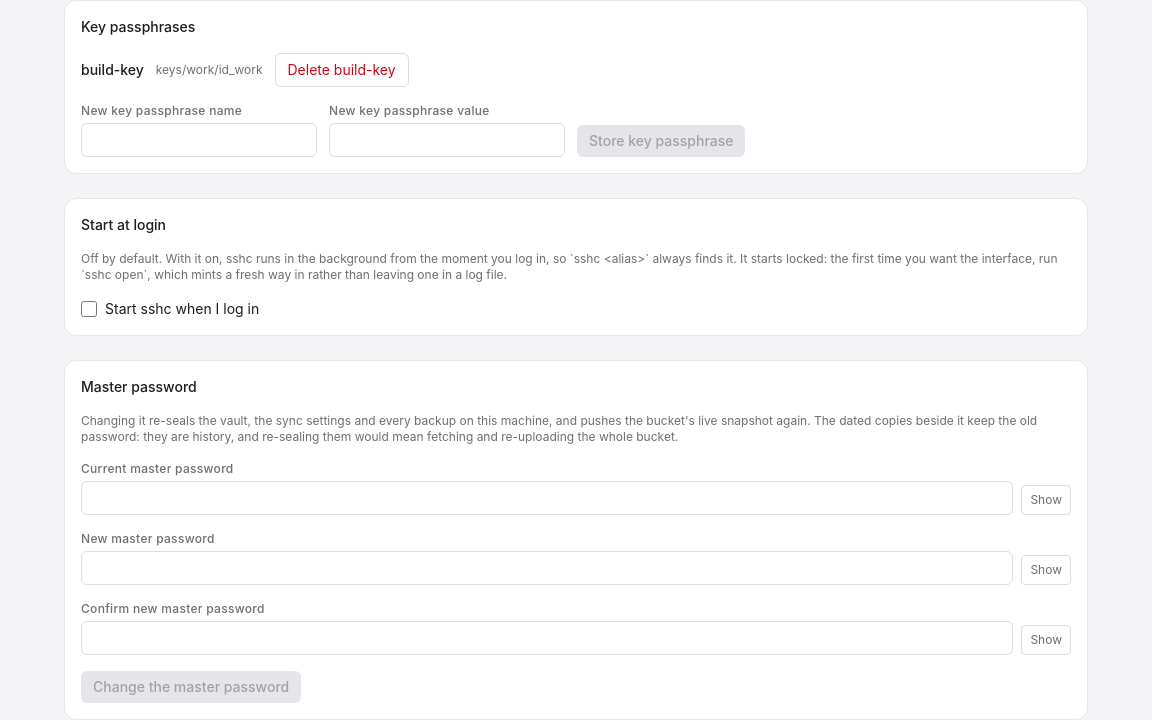
Test: SecretsPanel › says the bucket still holds a snapshot the old password opens
(page scrolled)
Check: the element "Master password" is shown, box [64,360,1088,719]
Type "the old one is long" into the password field labelled "Current master password".
click(547, 498); type("the old one is long")  # box [81,481,1013,515]
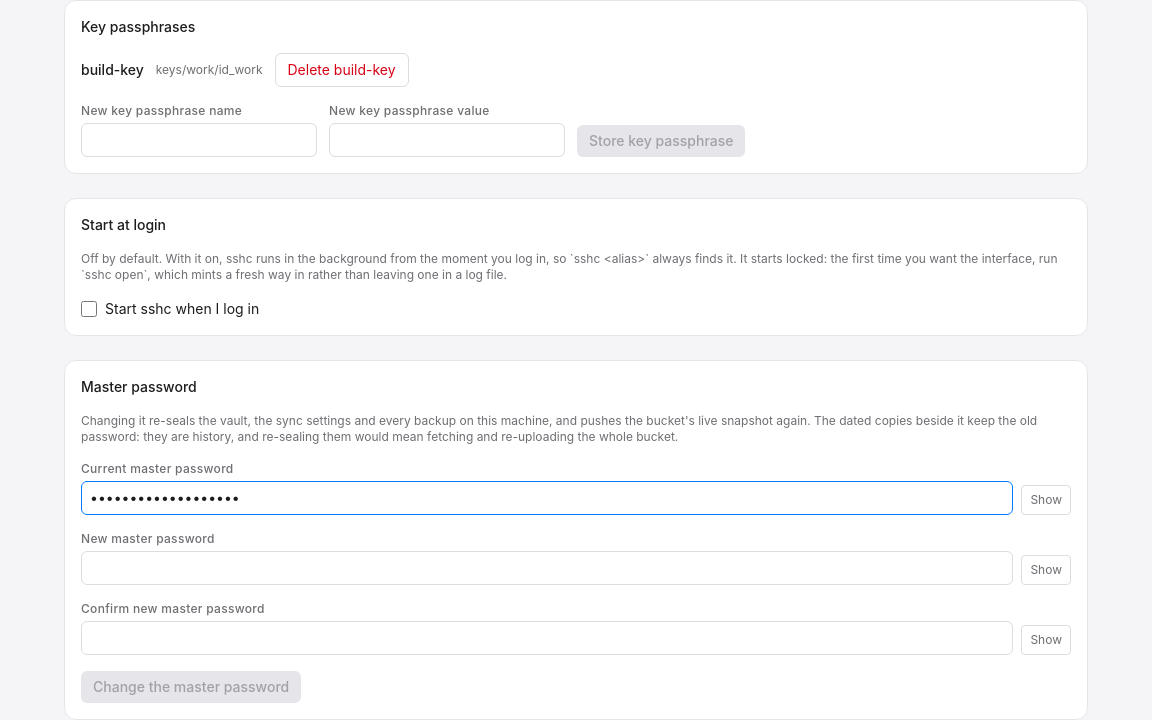
Type "the new one is long" into the password field labelled "New master password".
click(547, 568); type("the new one is long")  # box [81,551,1013,585]
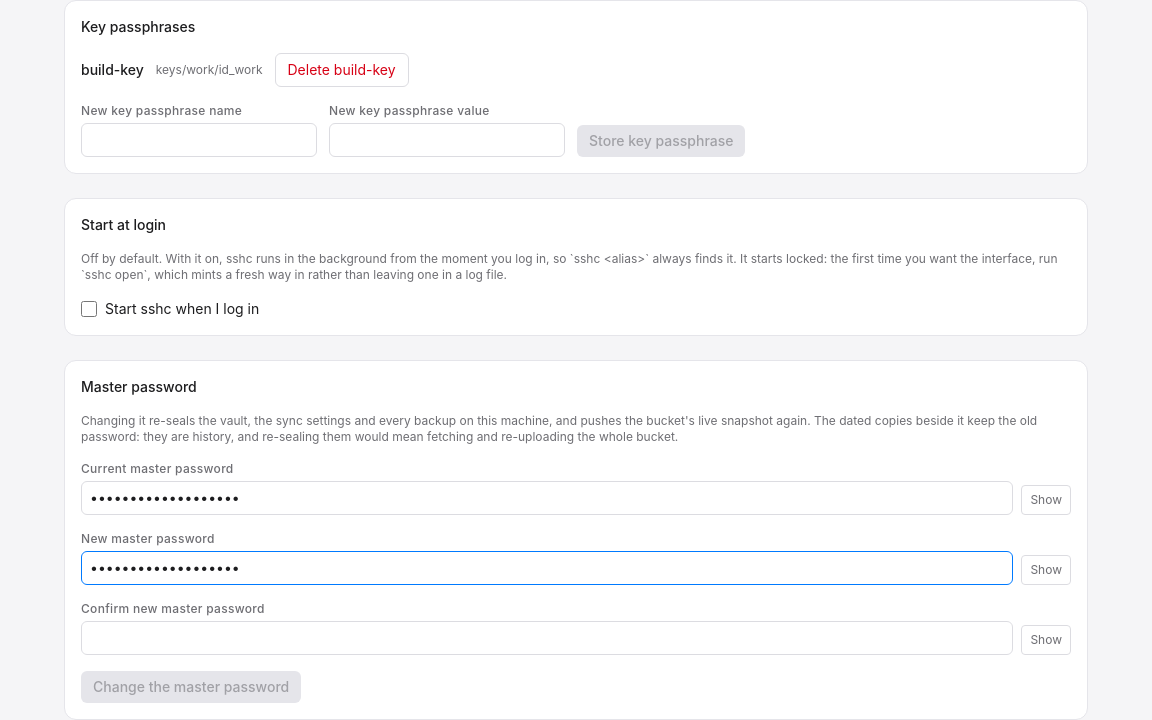
Type "the new one is long" into the password field labelled "Confirm new master password".
click(547, 638); type("the new one is long")  # box [81,621,1013,655]
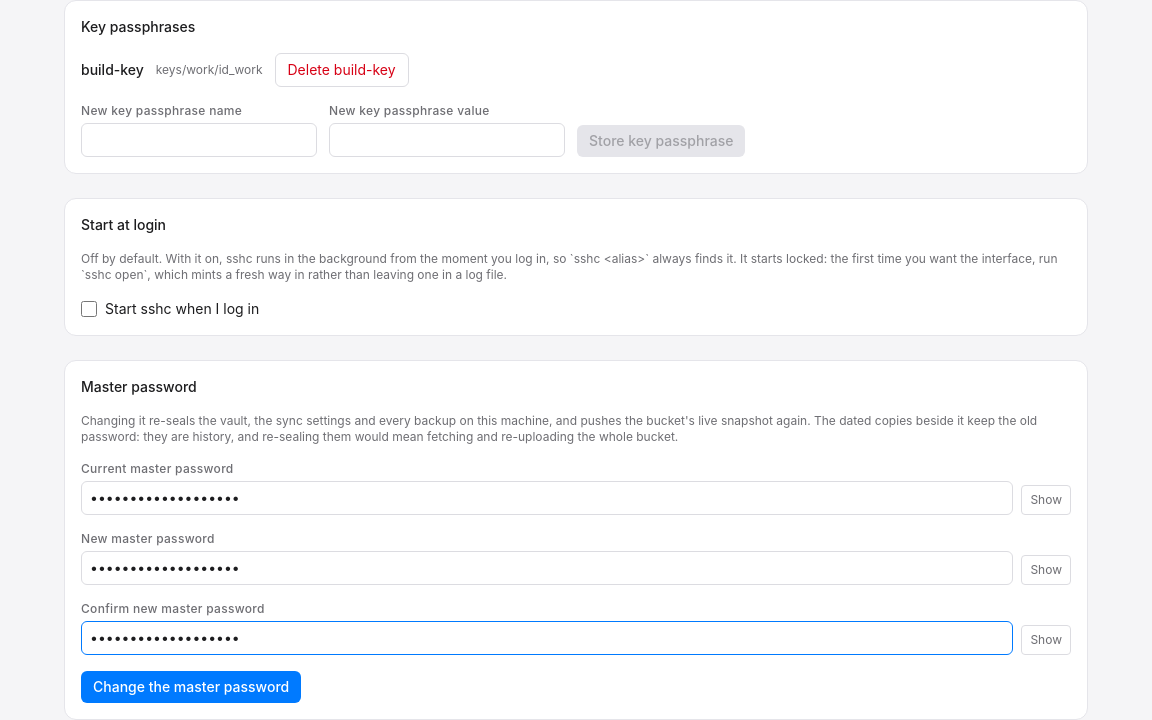
Click the button "Change the master password".
click(191, 687)  # box [81,671,301,703]
(page scrolled)
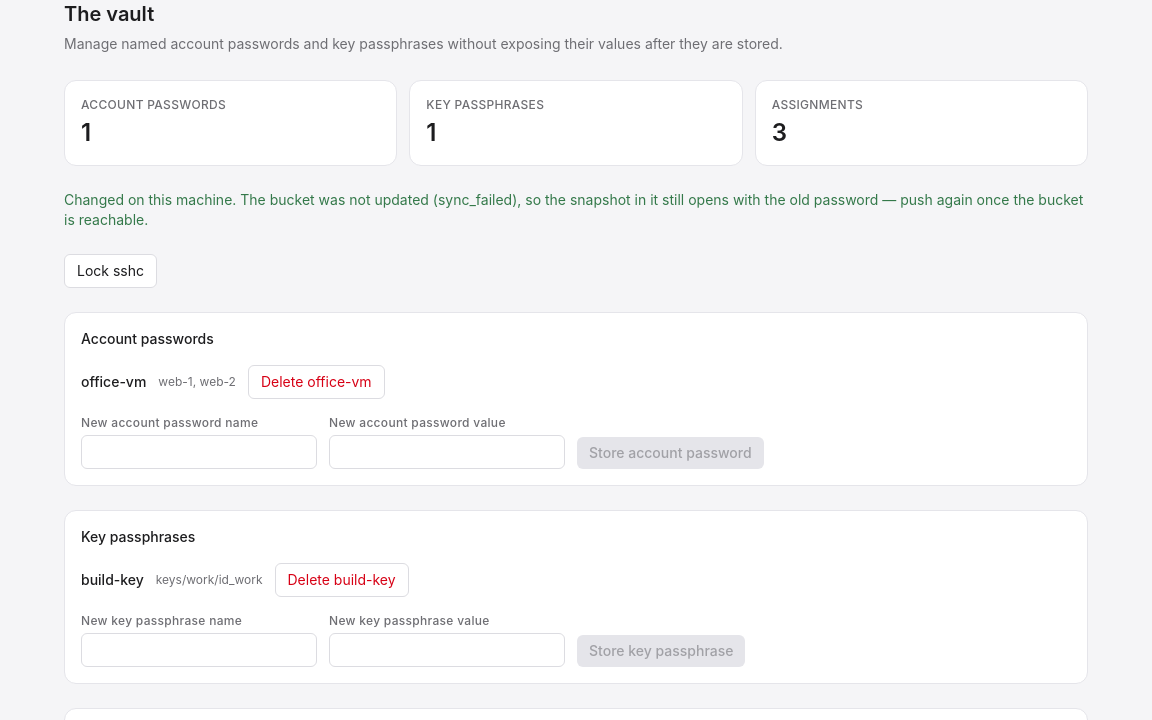
Check: the message shows "still opens with the old password", box [64,191,1083,228]
